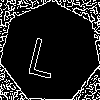L: (25, 27, 63, 79)
